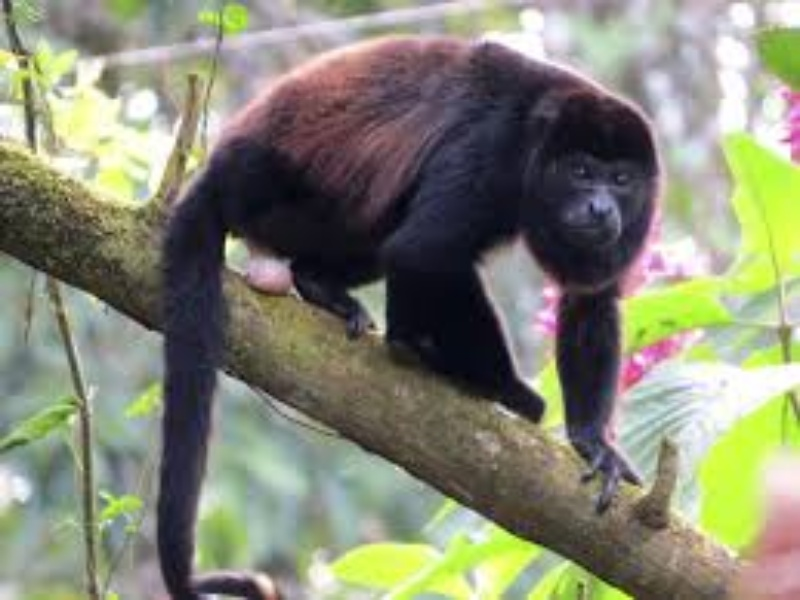monkey: (128, 36, 679, 588)
